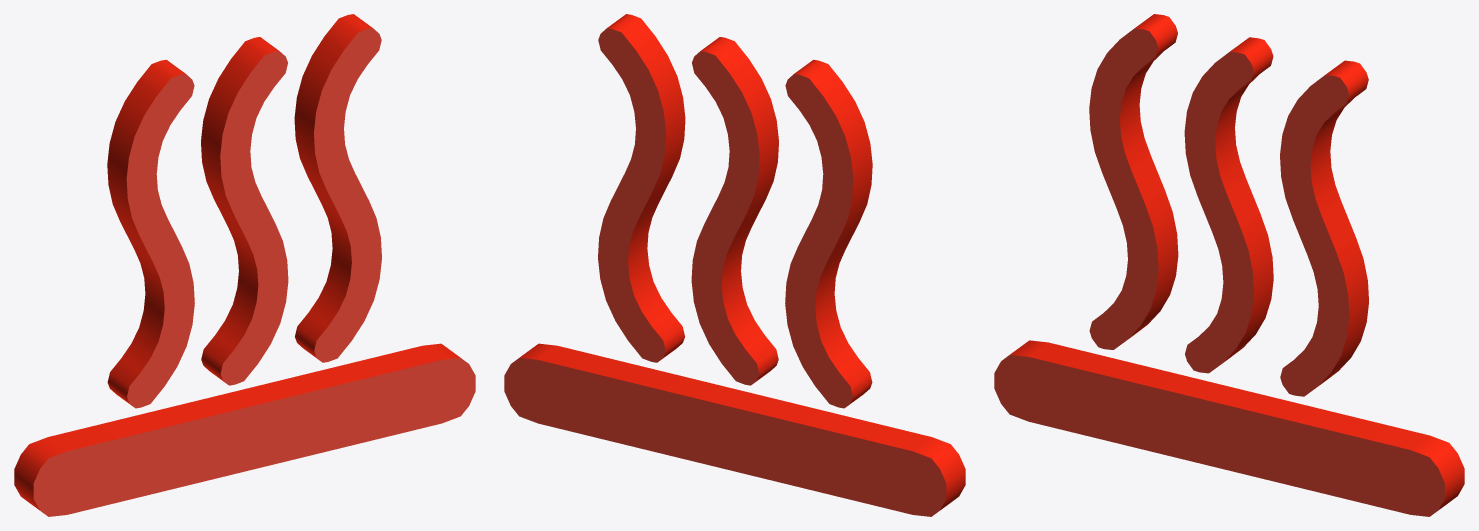
The model's file is Heat Up Icon C.fbx.
The picture shows the model from 3 angles, left to right: view 1: azimuth 30°, elevation 25°; view 2: azimuth 150°, elevation 25°; view 3: azimuth 330°, elevation 25°; orthographic projection.
Visible parts, largest first — view 1: Heat Up C; view 2: Heat Up C; view 3: Heat Up C.
Part boxes in pixels (<box>): Heat Up C: <box>14,14,475,516</box>; Heat Up C: <box>504,14,965,516</box>; Heat Up C: <box>994,14,1464,516</box>.
Bounding box in the file's own units: 1.01 × 0.8995 × 0.0765.
